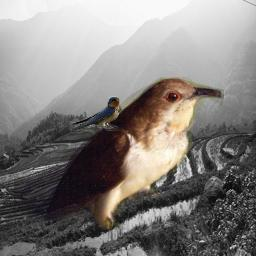Cuckoo: (14, 77, 224, 230)
Swallow: (62, 96, 122, 131)
